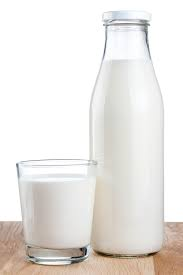milk: (87, 10, 174, 257), (15, 149, 91, 266)
